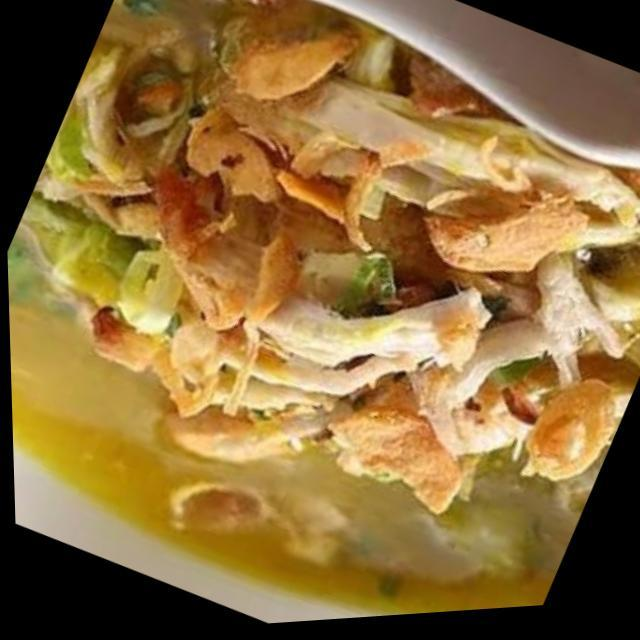Soto: (16, 0, 639, 520)
